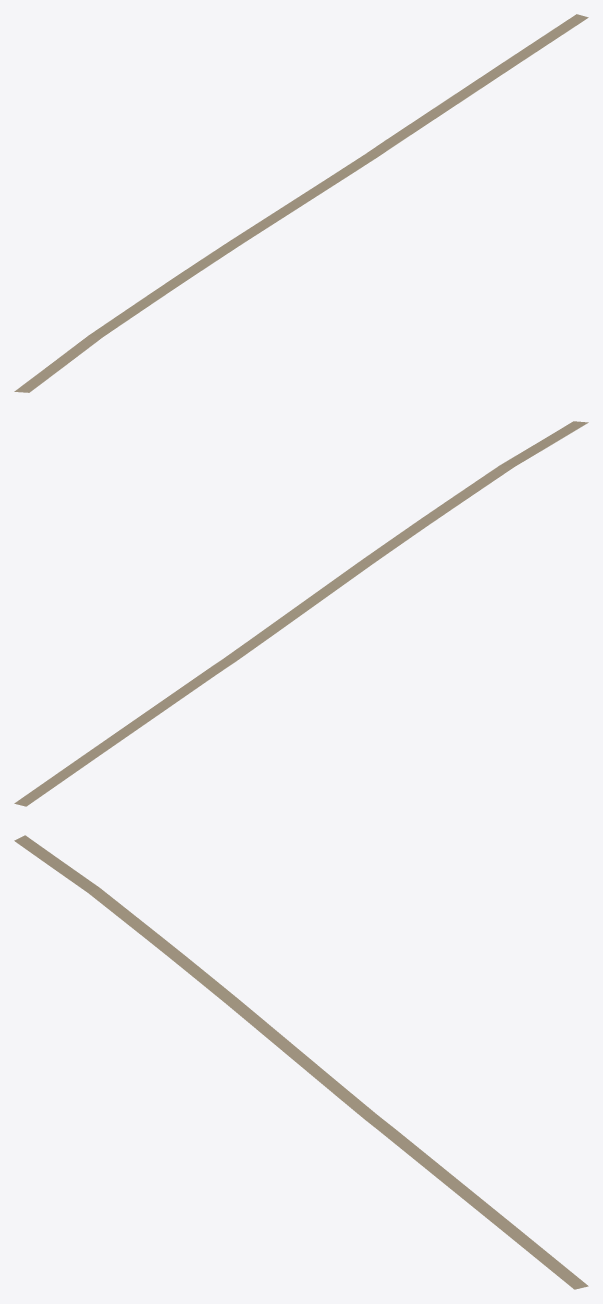
File: farm_21_26_track.glb
The picture shows the model from 3 angles, top to bottom: view 1: azimuth 30°, elevation 25°; view 2: azimuth 210°, elevation 25°; view 3: azimuth 270°, elevation 25°; orthographic projection. The views are drawn at different scales.
Visible parts, largest first — view 1: geometry_0; view 2: geometry_0; view 3: geometry_0.
Boxes of the visible parts, x1=… form: geometry_0: x1=14, y1=14, x2=588, y2=392; geometry_0: x1=14, y1=421, x2=588, y2=806; geometry_0: x1=14, y1=835, x2=588, y2=1289.
Bounding box in the file's own units: 214 × 2.34 × 115.
